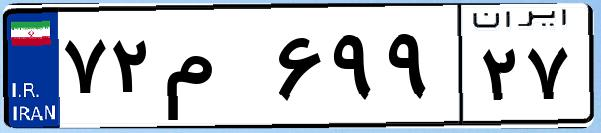2: (475, 38, 525, 113), (110, 28, 158, 98)
6: (270, 28, 330, 110)
7: (57, 26, 110, 100), (525, 38, 570, 115)
9: (385, 28, 445, 110), (330, 28, 385, 110)
م: (158, 20, 270, 120)
